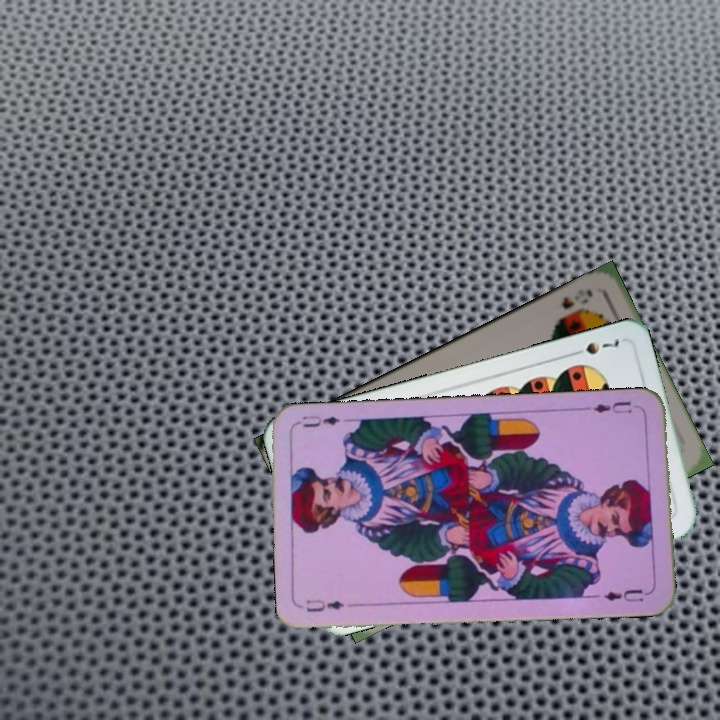EU: (589, 397, 641, 416), (302, 595, 347, 615)
S7: (566, 335, 622, 359)
SO: (557, 284, 596, 312)
